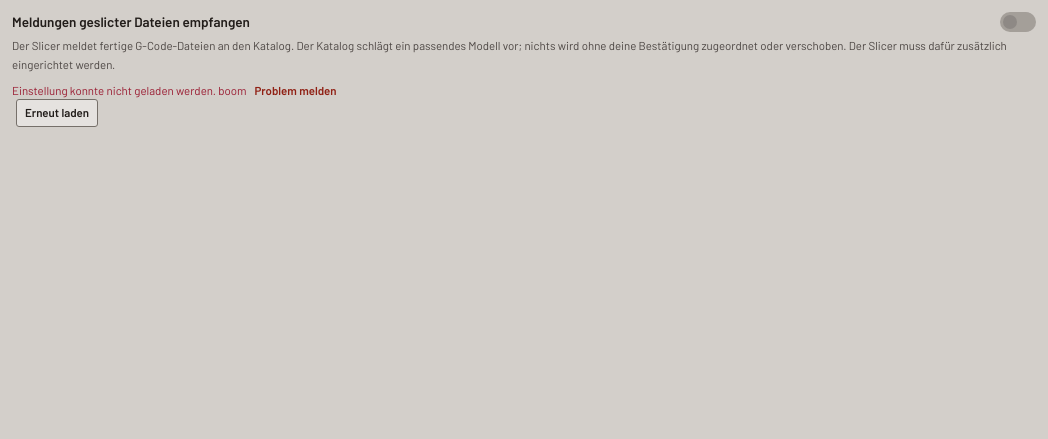
Test: settings load and save states › reports a failed read instead of leaving a dead switch, and reads again on request
Expected: the message shows "Einstellung konnte nicht geladen werden.", [12, 83, 216, 97]
Expected: the switch named "Meldungen geslicter Dateien empfangen" is disabled, [1000, 12, 1036, 32]
What coordinates should you click on to do the following:
click the button "Erneut laden"
I would click on:
 (57, 113)
Its box is [16, 99, 98, 127].
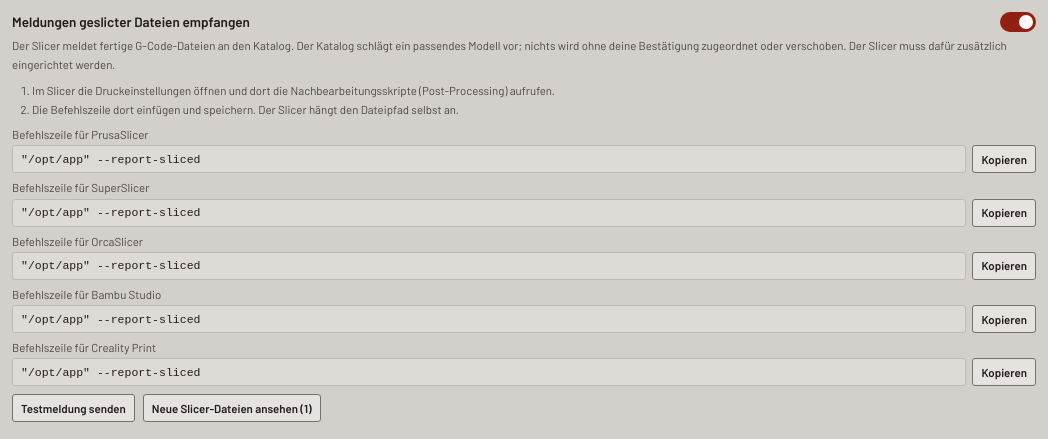
Expected: the switch named "Meldungen geslicter Dateien empfangen" is enabled, [1000, 12, 1036, 32]
Expected: the message "Einstellung konnte nicht geladen werden. boom Problem melden" is gone
